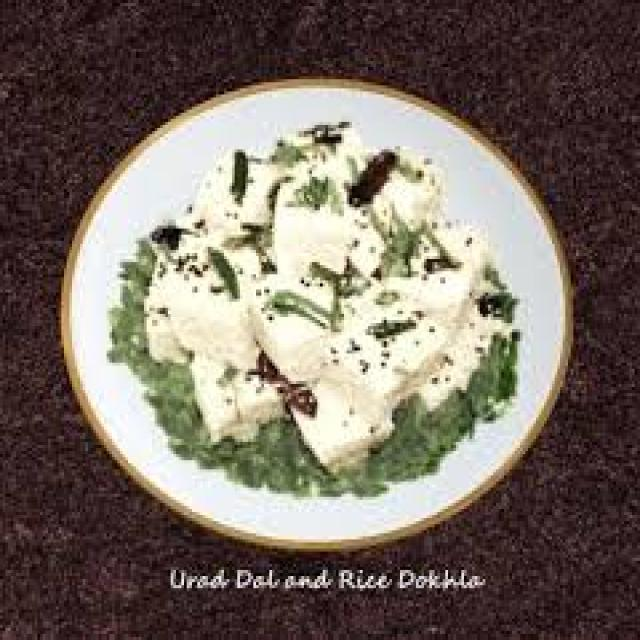DHOKLA: (144, 244, 257, 359), (382, 226, 486, 338), (345, 284, 444, 395), (355, 149, 444, 251), (189, 361, 287, 453), (272, 179, 355, 283), (300, 374, 404, 455), (258, 281, 339, 384), (189, 164, 289, 237)
